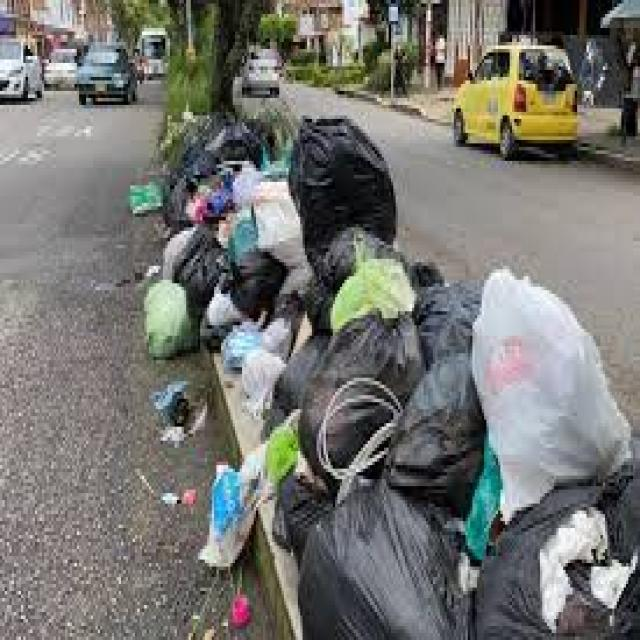Trashbag: (478, 489, 638, 640), (314, 487, 456, 640), (288, 111, 398, 248), (307, 318, 400, 474), (388, 365, 492, 502), (418, 277, 488, 356), (224, 256, 286, 316), (212, 113, 272, 169), (176, 236, 213, 291), (181, 143, 212, 190), (163, 189, 190, 234)
